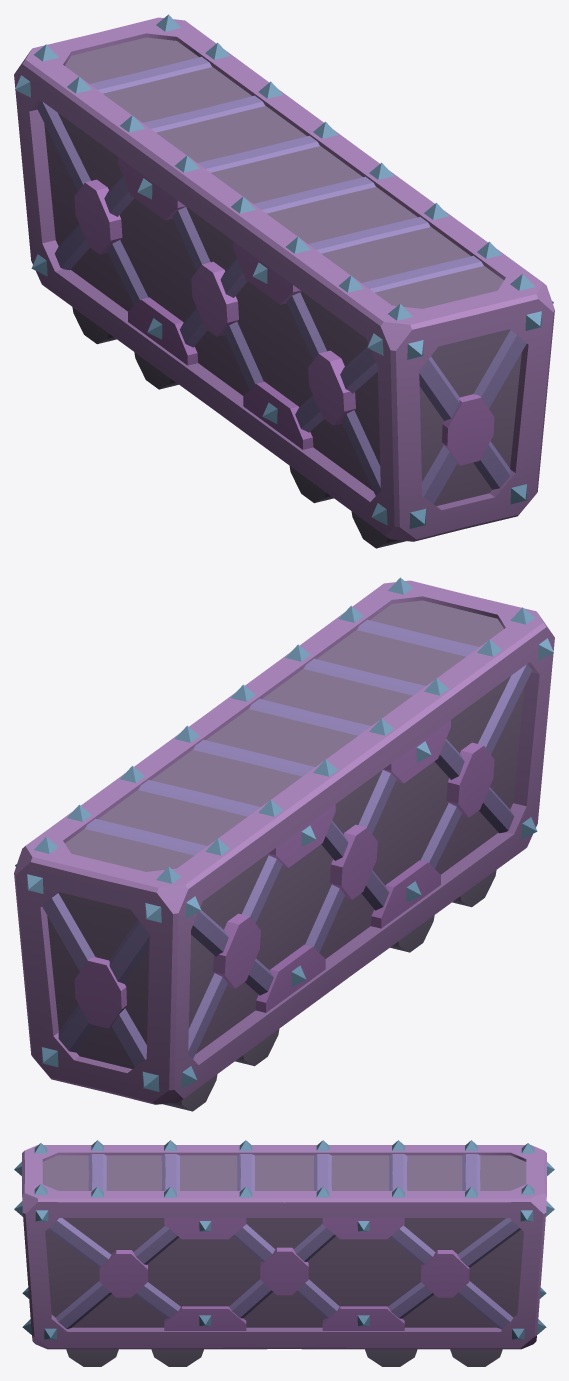
Rendered from obstacle-factory_truck_trailer_LMH2.glb.
3 views of the same model, one above another, from view 1: azimuth 30°, elevation 25°; view 2: azimuth 150°, elevation 25°; view 3: azimuth 270°, elevation 25° (orthographic). The views are drawn at different scales.
Parts seen in each view (by area): view 1: obstacle-factory_truck_trailer_LMH2; view 2: obstacle-factory_truck_trailer_LMH2; view 3: obstacle-factory_truck_trailer_LMH2.
Part boxes in pixels (box(x1,y1,x2,y2)): obstacle-factory_truck_trailer_LMH2: box(14, 14, 554, 548); obstacle-factory_truck_trailer_LMH2: box(14, 577, 554, 1111); obstacle-factory_truck_trailer_LMH2: box(14, 1140, 554, 1366).
Size of the model in its own units: 3.22 by 4.45 by 11.76.
